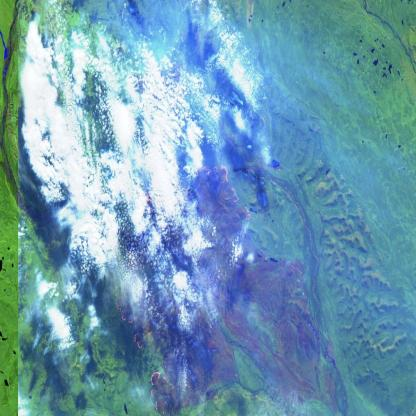fire: (106, 261, 180, 416), (170, 147, 264, 228)
